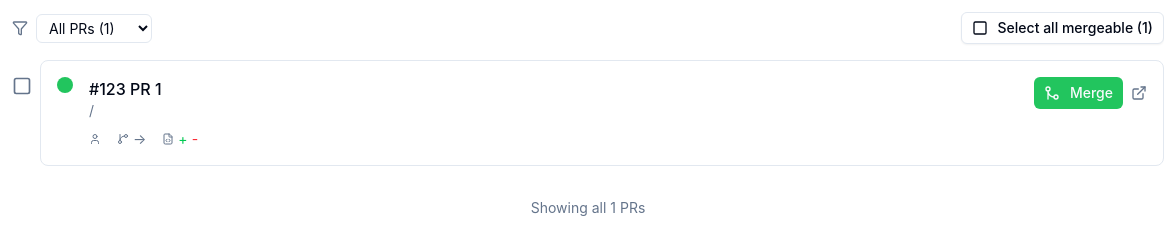
Test case: PRListView › Bulk Selection › toggles individual PR selection
Expected: the link "#123 PR 1" is shown, [89,77,162,101]
Click the button with class "lucide-square". click: (1062, 28)
box: [961,12,1164,44]
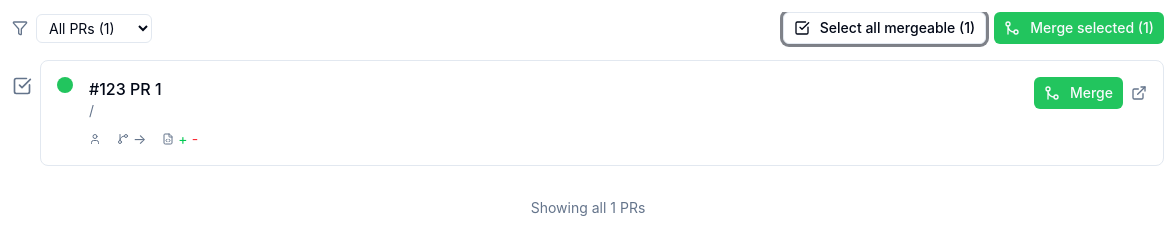
Expected: the button "Merge selected (1)" is shown, [994,12,1164,44]
